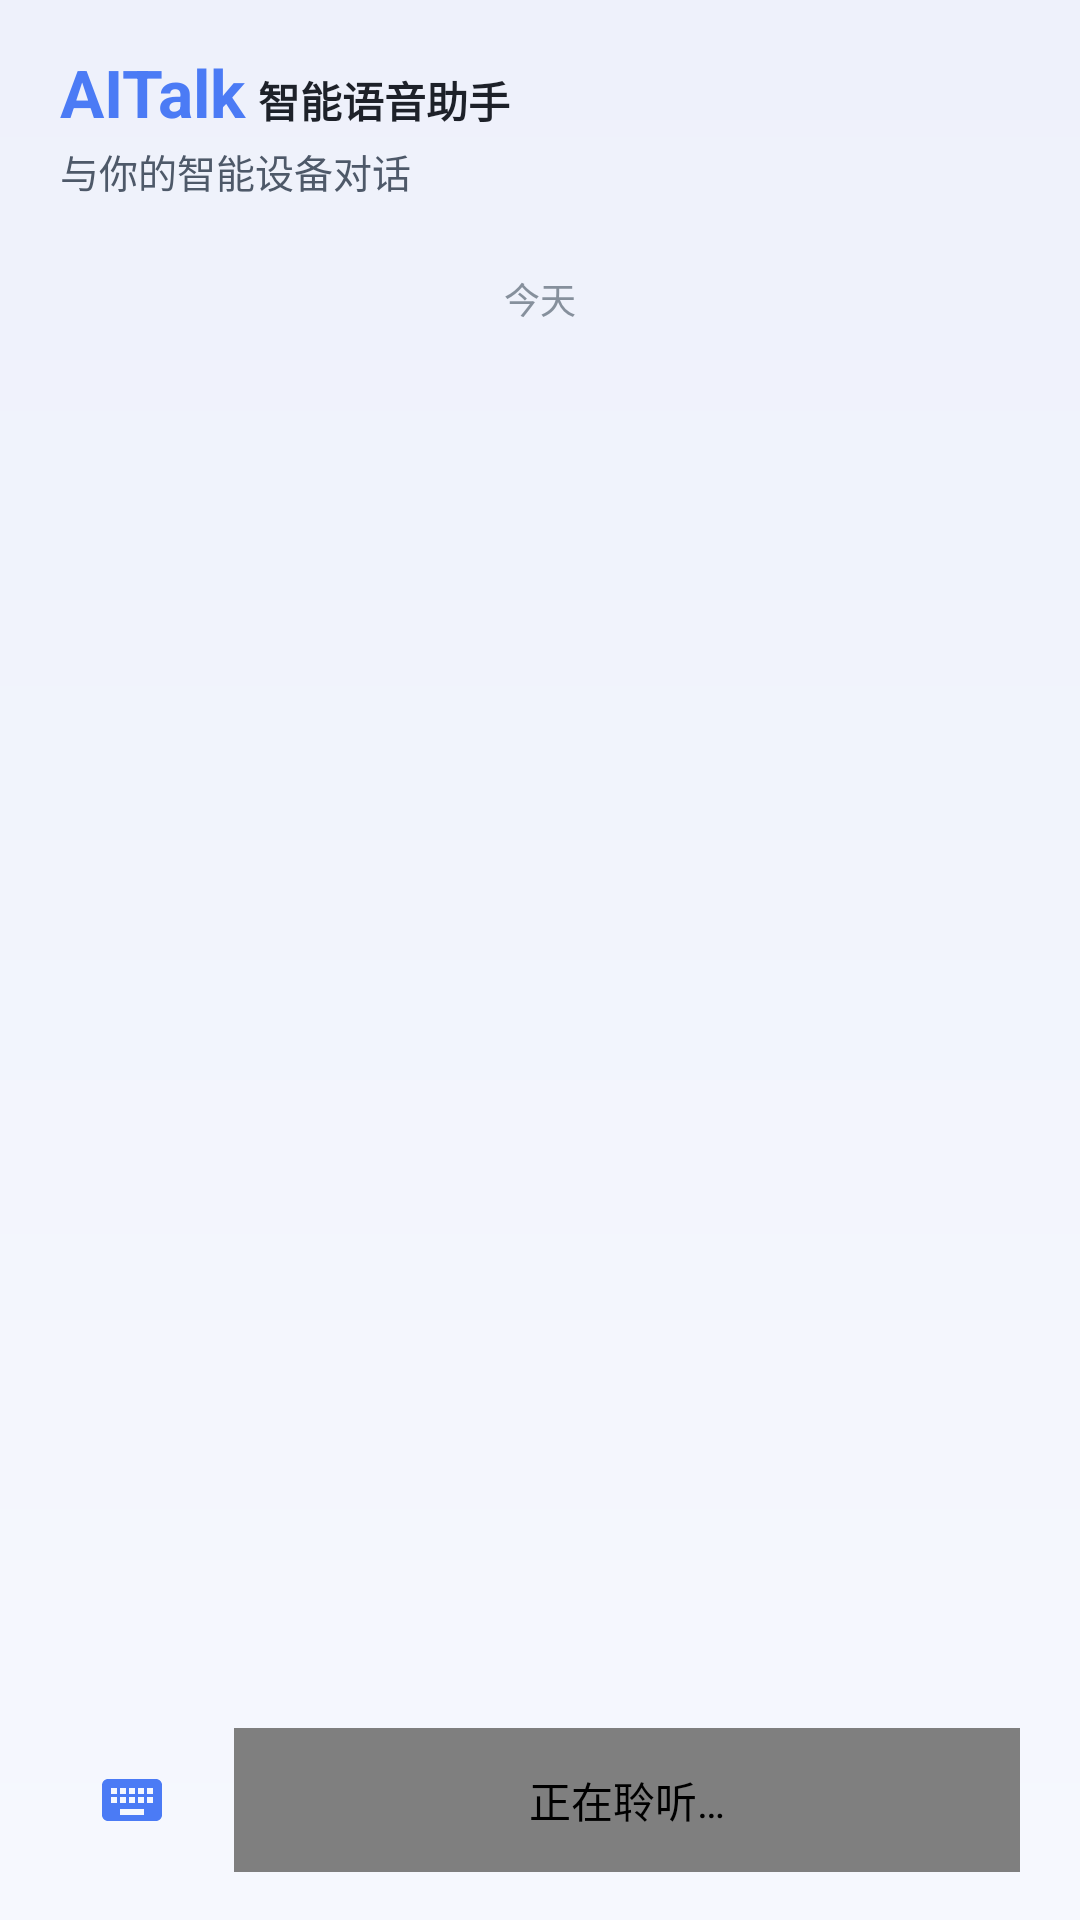

Icons on this 1080 x 1920 Android screen, each with the point to tap as [x,y]:
切换到文字输入: [132,1800]
